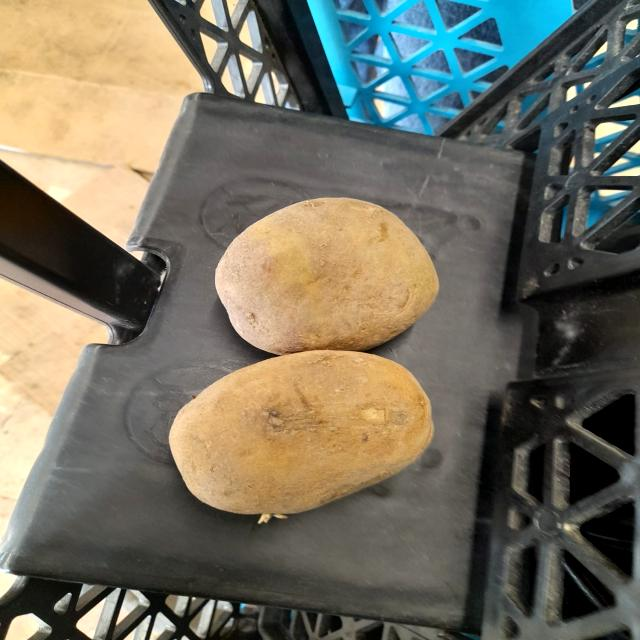potato: (149, 343, 451, 526), (196, 179, 466, 362)
